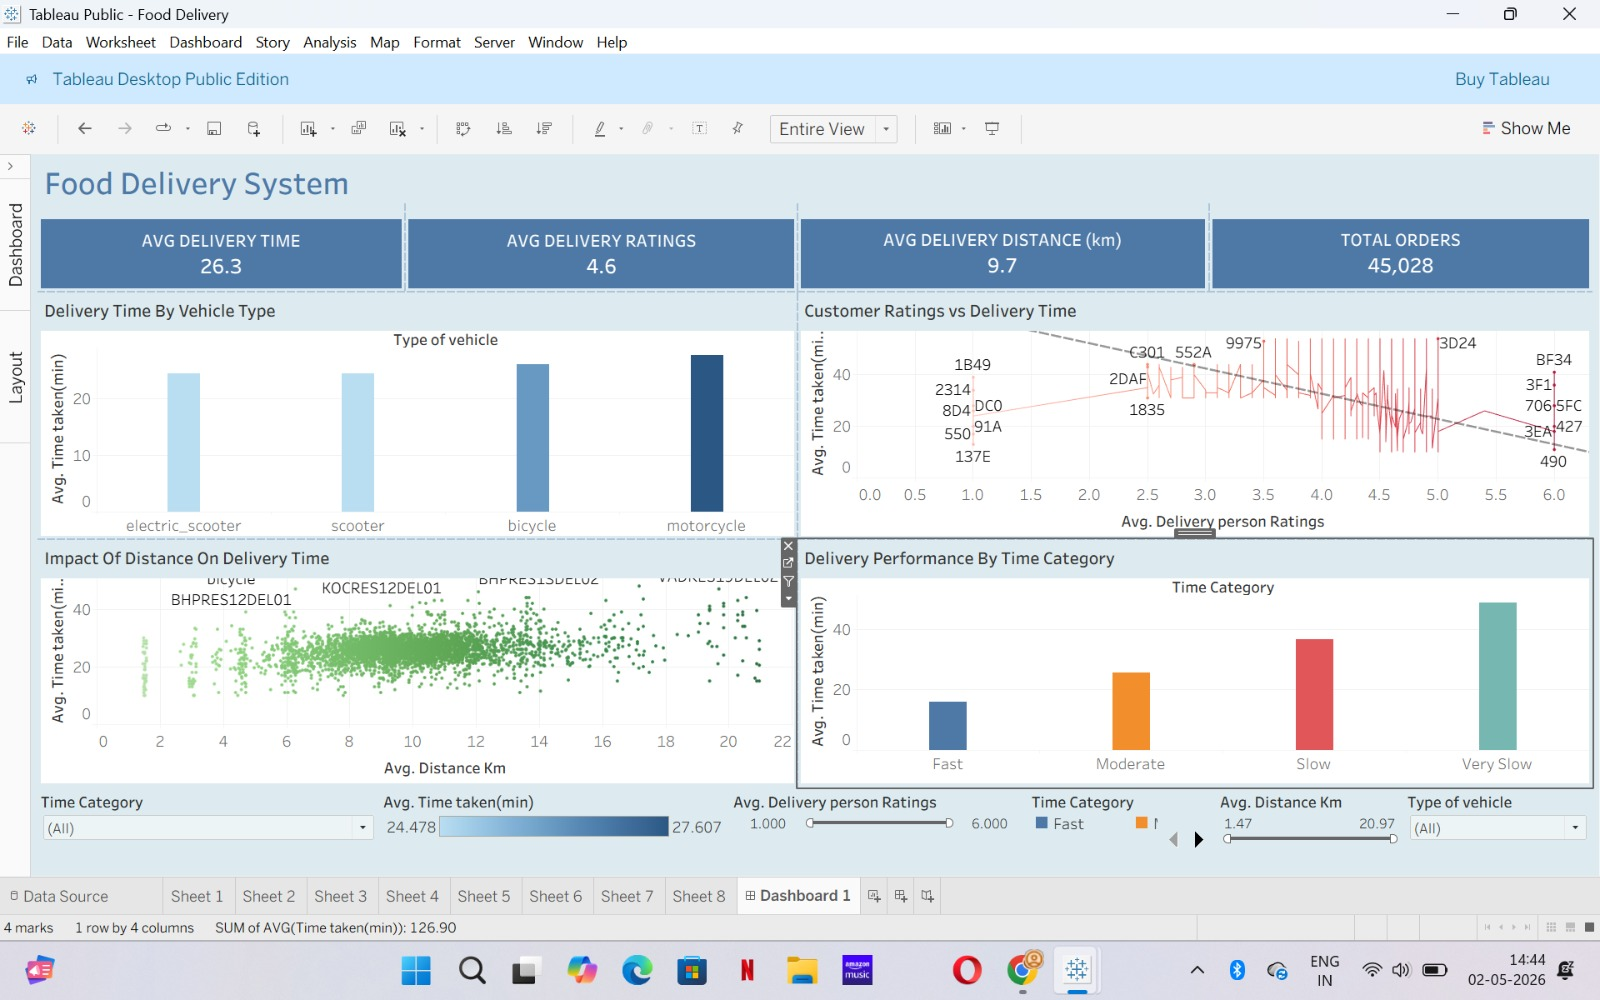

The page's visual inventory and layout, read from the dashboard file:
{"tool":"tableau","page":{"name":"Dashboard 1","canvas":[1000,1000],"units":"permille","ordinal":0},"visuals":[{"type":"title","box":[6.9,14.5,986.1,58]},{"type":"worksheet","title":"Sheet 5","mark":"Square","box":[6.9,72.5,232.9,121.8]},{"type":"worksheet","title":"Sheet 6","mark":"Square","box":[239.8,72.5,249.3,121.8]},{"type":"worksheet","title":"Sheet 7","mark":"Square","box":[489.2,72.5,260.6,121.4]},{"type":"worksheet","title":"Sheet 8","mark":"Square","box":[749.8,72.5,243.3,121.4]},{"type":"worksheet","title":"Sheet 1","mark":"Line","rows":["Time_taken(min)"],"cols":["Delivery_person_Ratings"],"box":[489.2,193.8,503.9,339.9]},{"type":"worksheet","title":"Sheet 2","mark":"Automatic","rows":["Time_taken(min)"],"cols":["Type_of_vehicle"],"box":[6.9,194.2,482.2,339.5]},{"type":"worksheet","title":"Sheet 4","mark":"Shape","rows":["Time_taken(min)"],"cols":["distance_km"],"box":[6.9,533.7,482.2,339.5]},{"type":"worksheet","title":"Sheet 3","mark":"Automatic","rows":["Time_taken(min)"],"cols":["time_category"],"box":[489.2,533.7,503.9,339.5]},{"type":"filter","title":"Sheet 3","param":"[federated.0uzqg3607978p81d0x5pr0fgrf8t].[none:time_category:nk]","box":[6.9,873.2,217.3,112.3]},{"type":"legend","title":"Sheet 2","param":"[federated.0uzqg3607978p81d0x5pr0fgrf8t].[avg:Time_taken(min):qk]","box":[224.2,873.2,221.7,112.3]},{"type":"filter","title":"Sheet 1","param":"[federated.0uzqg3607978p81d0x5pr0fgrf8t].[avg:Delivery_person_Ratings:qk]","box":[445.9,873.2,189.7,112.3]},{"type":"legend","title":"Sheet 3","param":"[federated.0uzqg3607978p81d0x5pr0fgrf8t].[none:time_category:nk]","box":[635.6,873.2,119.2,112.3]},{"type":"filter","title":"Sheet 4","param":"[federated.0uzqg3607978p81d0x5pr0fgrf8t].[avg:distance_km:qk]","box":[754.7,873.2,119.2,112.3]},{"type":"filter","title":"Sheet 2","param":"[federated.0uzqg3607978p81d0x5pr0fgrf8t].[none:Type_of_vehicle:nk]","box":[873.9,873.2,119.2,112.3]}]}

Visuals, with their boxes on the dashboard's canvas, which has no fixed pixel size, in thousandths of its width and height (x1, y1, x2, y2). These are canvas units, not pixel positions in the 1600x1000 screenshot, which may show the page scaled, cropped or inside an application window:
title: [7,14,993,72]
"Sheet 5" worksheet (Square marks): [7,72,240,194]
"Sheet 6" worksheet (Square marks): [240,72,489,194]
"Sheet 7" worksheet (Square marks): [489,72,750,194]
"Sheet 8" worksheet (Square marks): [750,72,993,194]
"Sheet 1" worksheet (Line marks): [489,194,993,534]
"Sheet 2" worksheet: [7,194,489,534]
"Sheet 4" worksheet (Shape marks): [7,534,489,873]
"Sheet 3" worksheet: [489,534,993,873]
"Sheet 3" filter: [7,873,224,986]
"Sheet 2" legend: [224,873,446,986]
"Sheet 1" filter: [446,873,636,986]
"Sheet 3" legend: [636,873,755,986]
"Sheet 4" filter: [755,873,874,986]
"Sheet 2" filter: [874,873,993,986]
